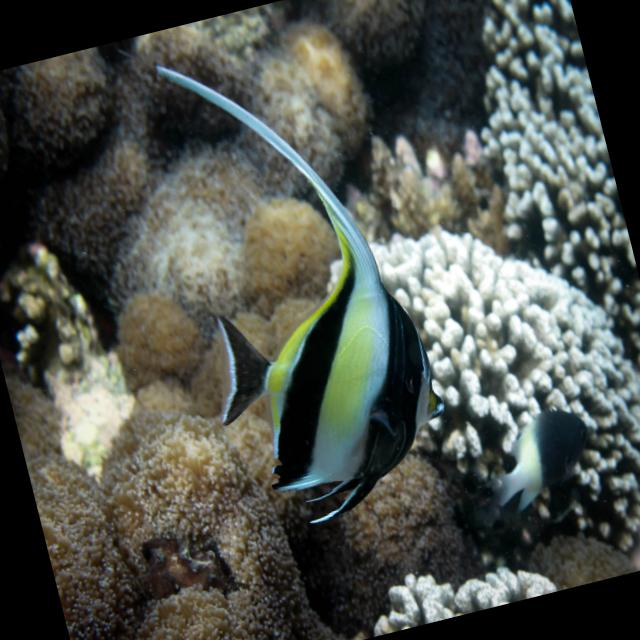MorishIdol: (132, 14, 466, 542)
